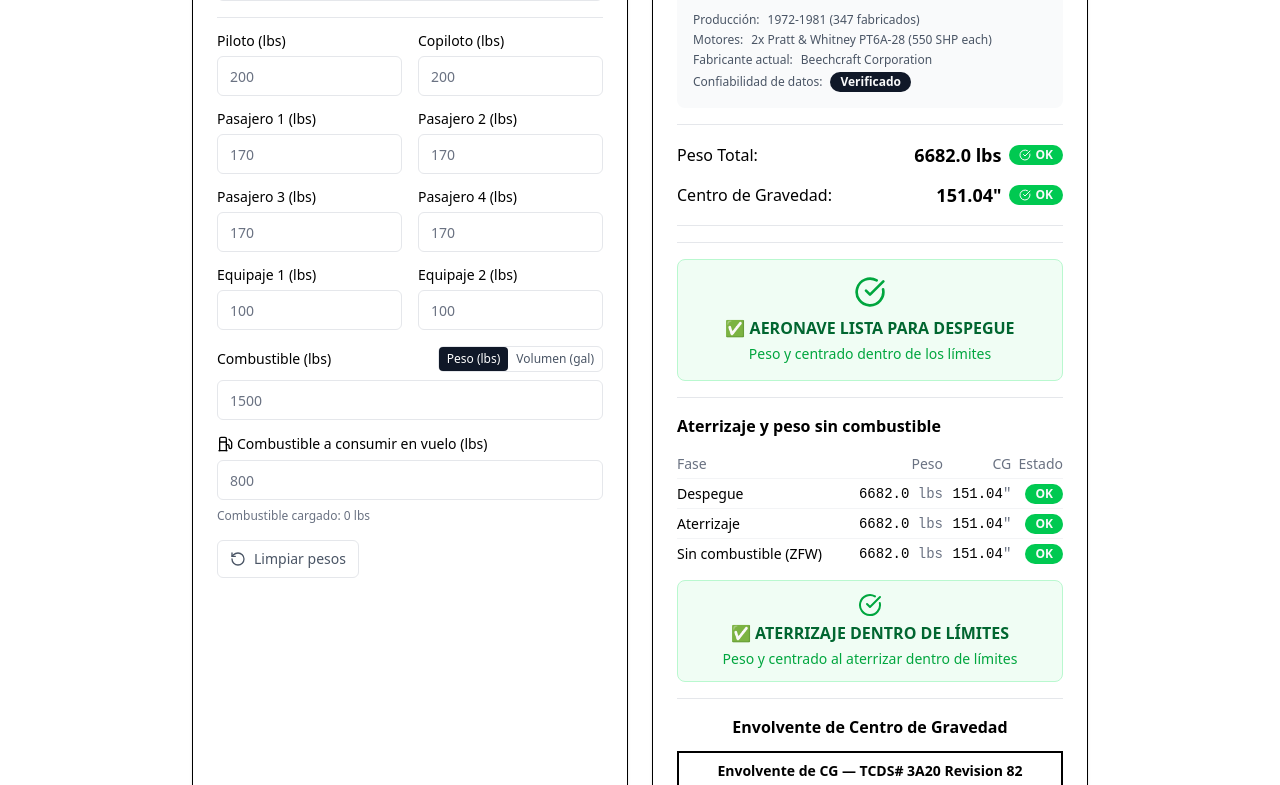
it: App (integración) › shows safety warning when weight approaches the limit
(page scrolled)
Type "3100" into the number field labelled "Combustible (lbs)". click: (410,400)
box: 217,380 -> 603,420
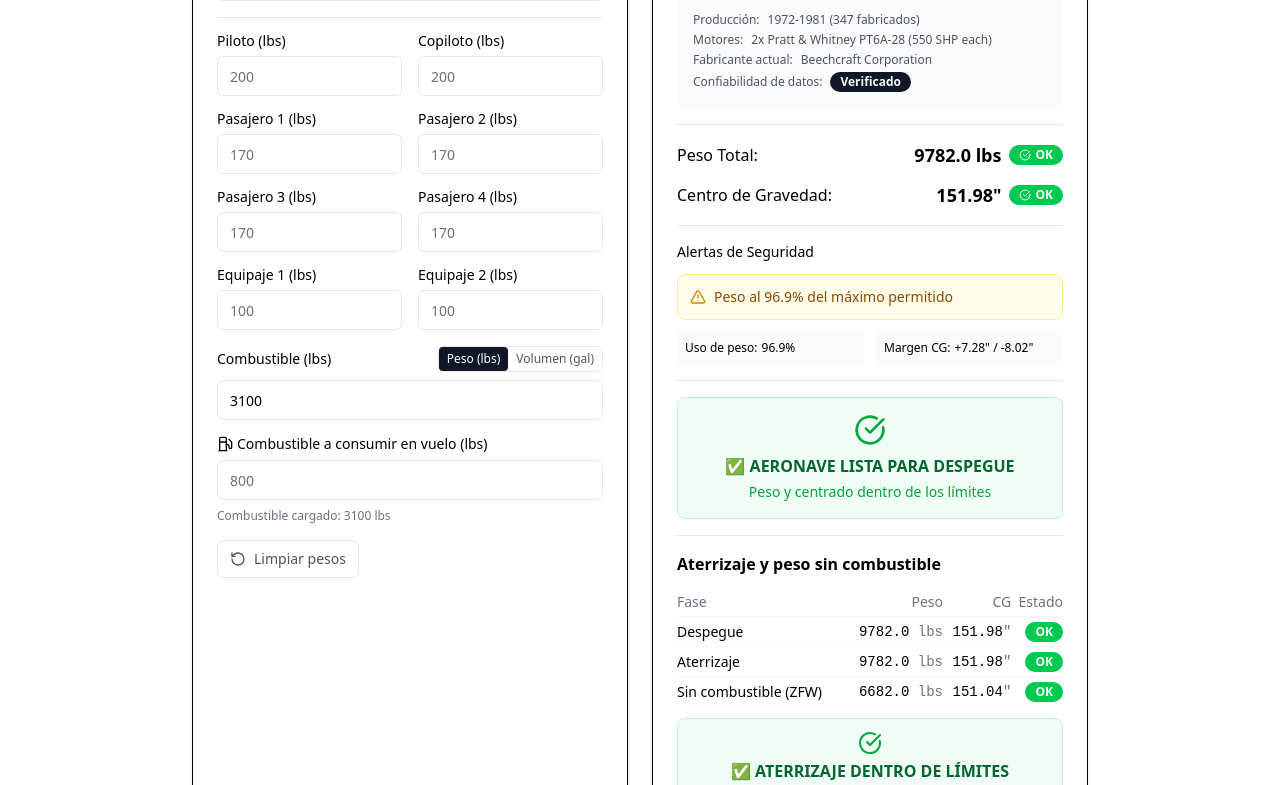
Result: the text "Peso al 96.9% del máximo permitido" is shown at 714,287 -> 953,307
